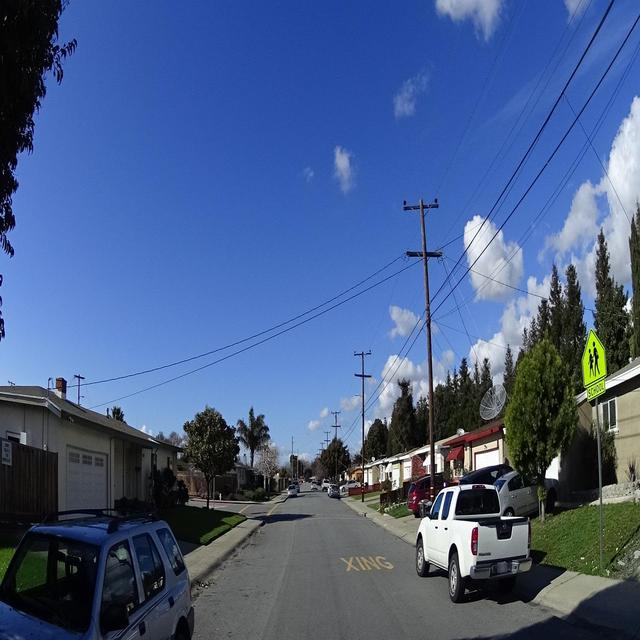Car: (0, 506, 194, 639), (406, 463, 538, 602), (287, 479, 361, 498), (545, 478, 561, 512)
Trash Can: (418, 499, 431, 519)
Vegetation: (496, 259, 598, 520), (0, 0, 77, 259), (592, 194, 639, 486), (364, 376, 429, 464), (0, 267, 5, 345)
